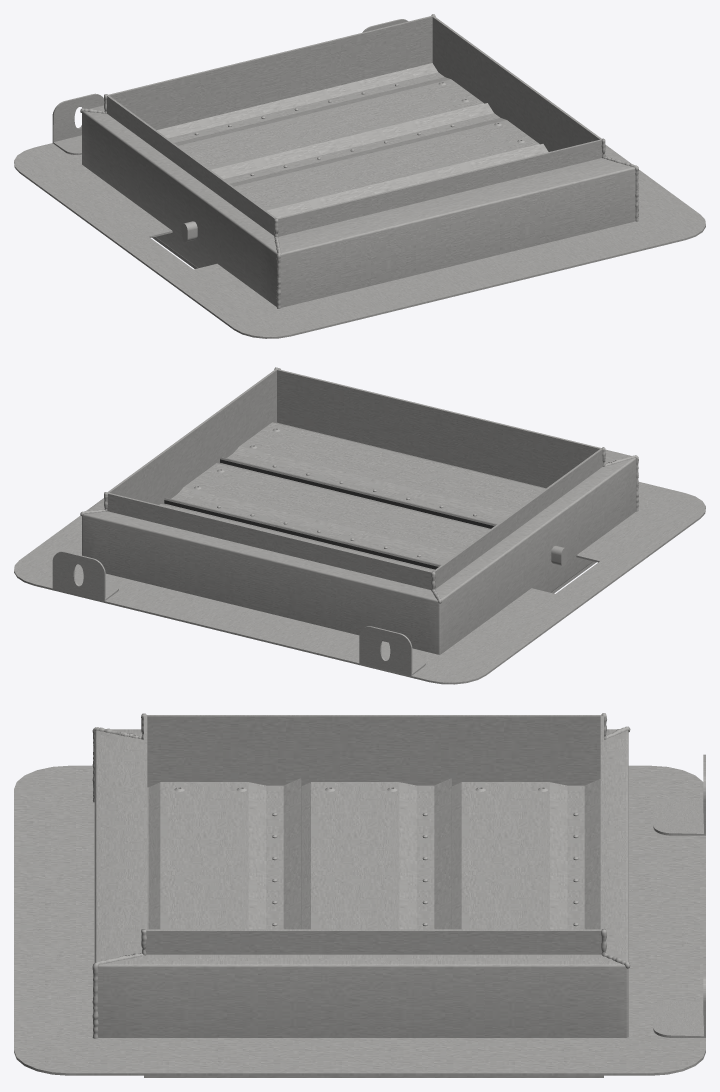
Rendered from DamperTest.gltf.
3 renders of one model, top to bottom at view 1: azimuth 30°, elevation 25°; view 2: azimuth 150°, elevation 25°; view 3: azimuth 270°, elevation 25°, orthographic. The views are drawn at different scales.
Parts seen in each view (by area): view 1: Plane.001, Plane, Plane.005, Plane.006, Plane.004; view 2: Plane.001, Plane, Plane.005, Plane.006; view 3: Plane.001, Plane, Plane.005, Plane.006, Plane.004.
Boxes of the visible parts, x1,y1,x2,y2 form: Plane.001: (82, 16, 635, 307); Plane: (157, 63, 548, 218); Plane.005: (14, 143, 705, 338); Plane.006: (52, 19, 408, 154); Plane.004: (274, 138, 638, 308); Plane.001: (82, 369, 636, 654); Plane: (159, 422, 545, 571); Plane.005: (14, 482, 705, 684); Plane.006: (52, 551, 425, 675); Plane.001: (94, 715, 628, 1077); Plane: (147, 778, 600, 929); Plane.005: (14, 765, 705, 1075); Plane.006: (653, 754, 705, 1037); Plane.004: (92, 713, 146, 1038).
Size of the model in its own units: 2.77 by 0.6238 by 2.63.
2 materials, 1 textured.
